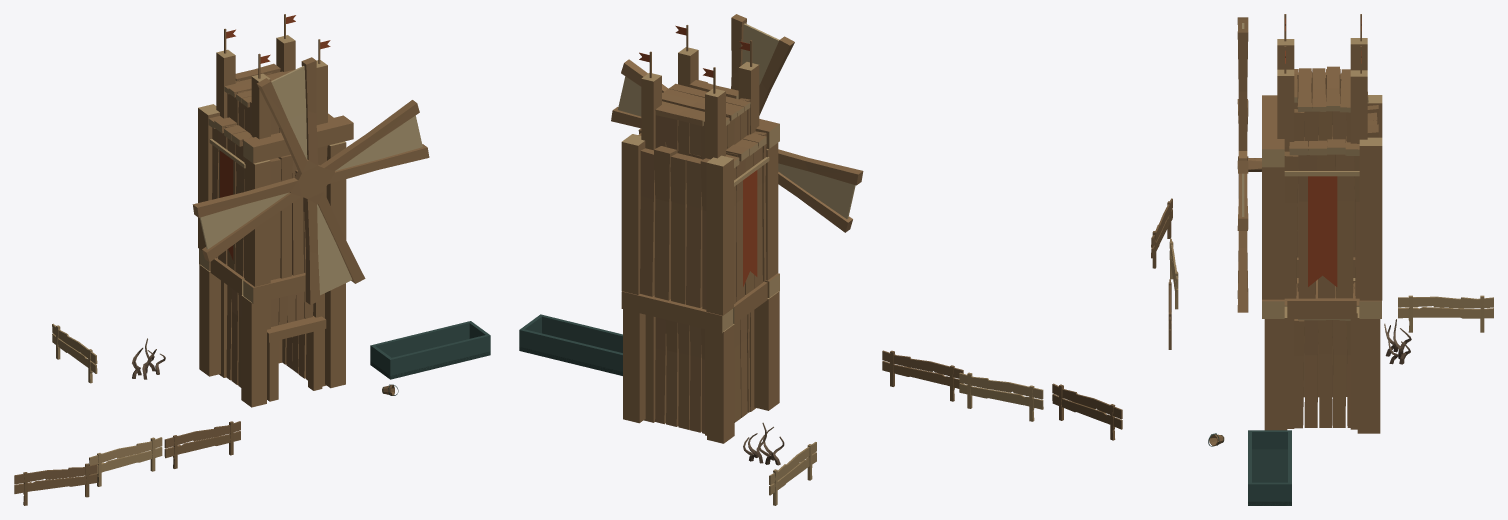
The model's file is LmWindmill.glb.
3 views of the same model, side by side, from view 1: azimuth 30°, elevation 25°; view 2: azimuth 150°, elevation 25°; view 3: azimuth 270°, elevation 25° (orthographic). The views are drawn at different scales.
Visible parts, largest first — view 1: LmWindmill; view 2: LmWindmill; view 3: LmWindmill.
Boxes of the visible parts, x1,y1,x2,y2 form: LmWindmill: (14, 14, 490, 505); LmWindmill: (519, 14, 1122, 505); LmWindmill: (1151, 14, 1493, 505).
Size of the model in its own units: 16.28 by 10.5 by 8.58.
